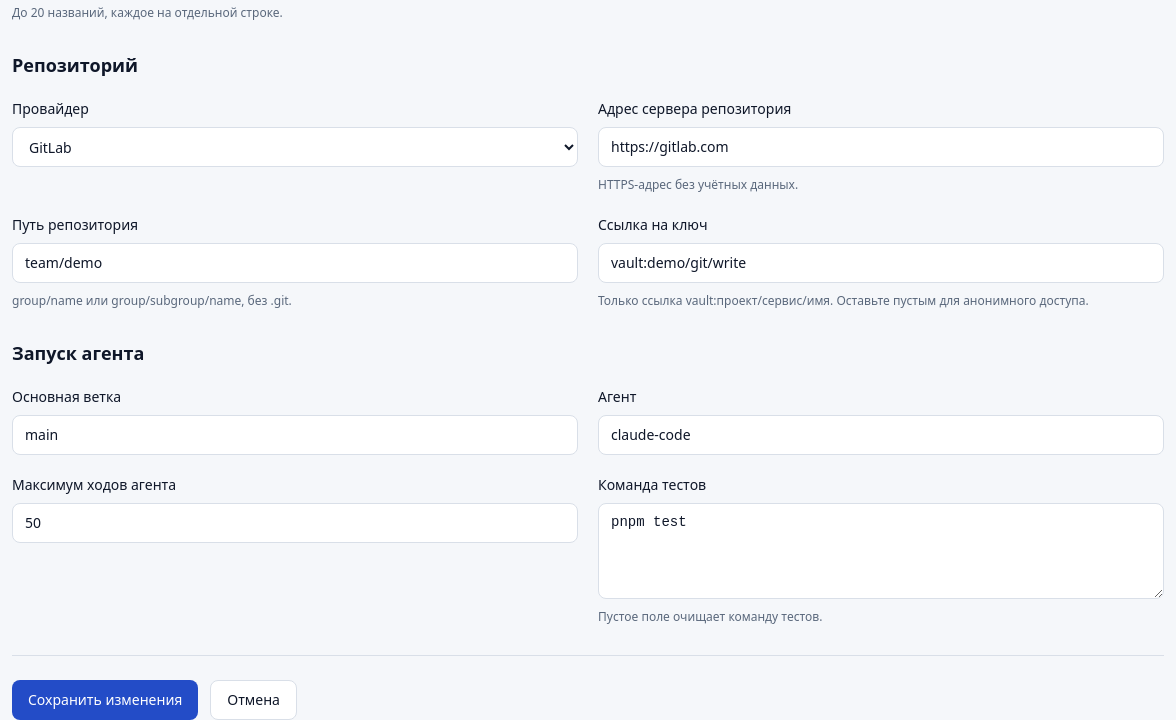
Test case: Форма проекта › показывает понятную ошибку project_conflict
This screenshot has width=1176, height=720.
(page scrolled)
Click the button "Сохранить изменения".
click(105, 700)  # box [12,680,198,719]
(page scrolled)
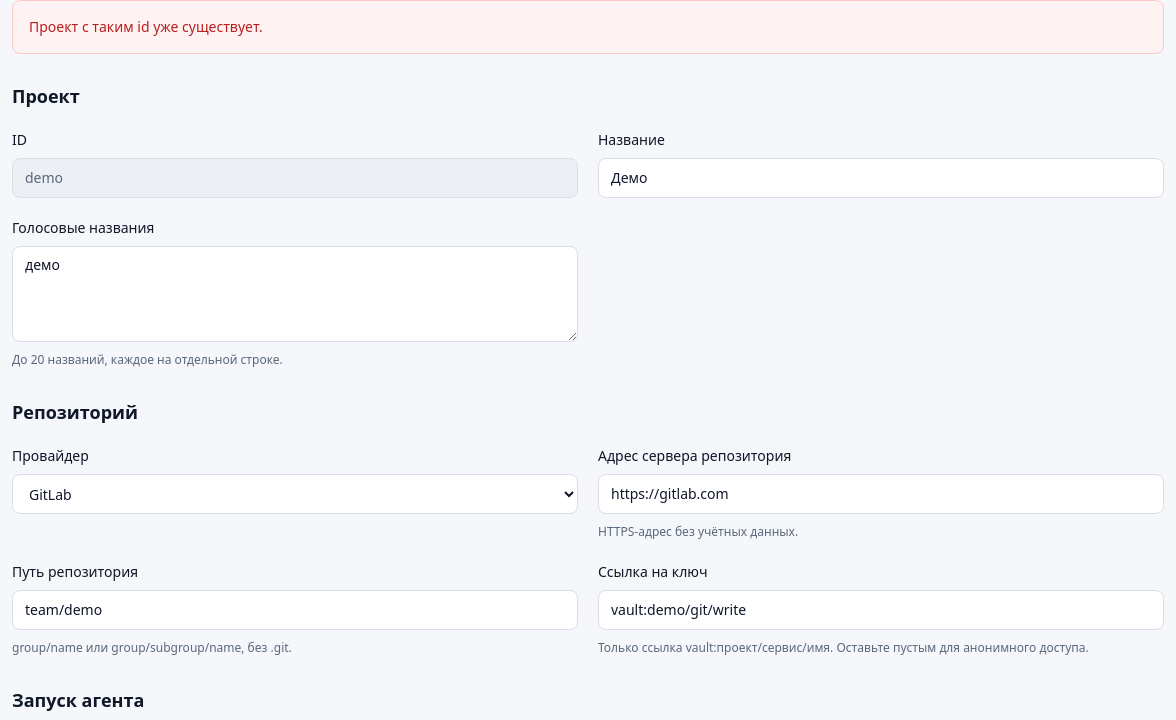
Expected: the message reads "Проект с таким id уже существует.", [29,17,263,36]
